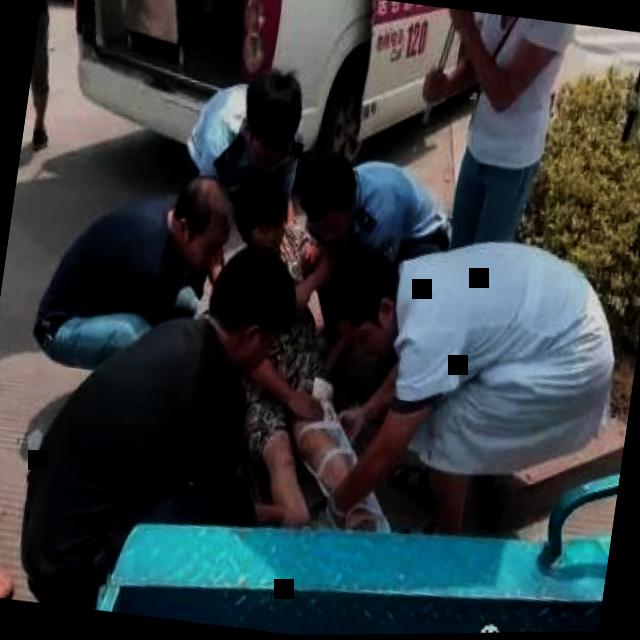Fall-Detected: (210, 251, 418, 523)
